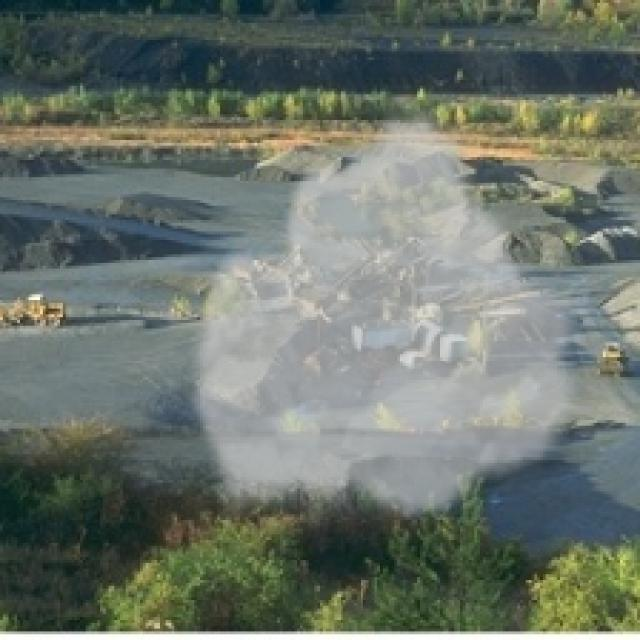Smoke: (183, 103, 592, 523)
